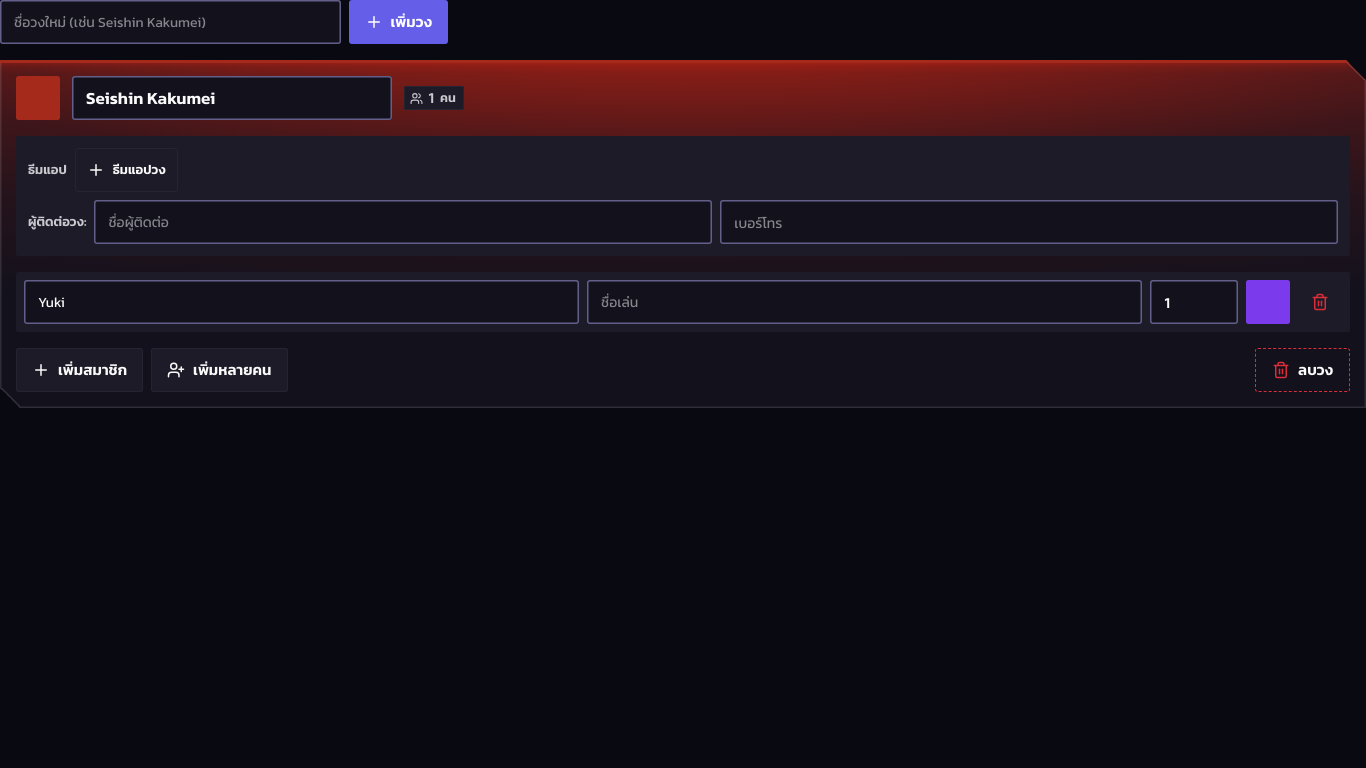
Artists: a member with history leaves the band instead of being deleted › a history read that failed also leaves (reversible), never deletes
Click the button named "ลบสมาชิก" at coordinates (1320, 302), box [1298, 280, 1342, 324]
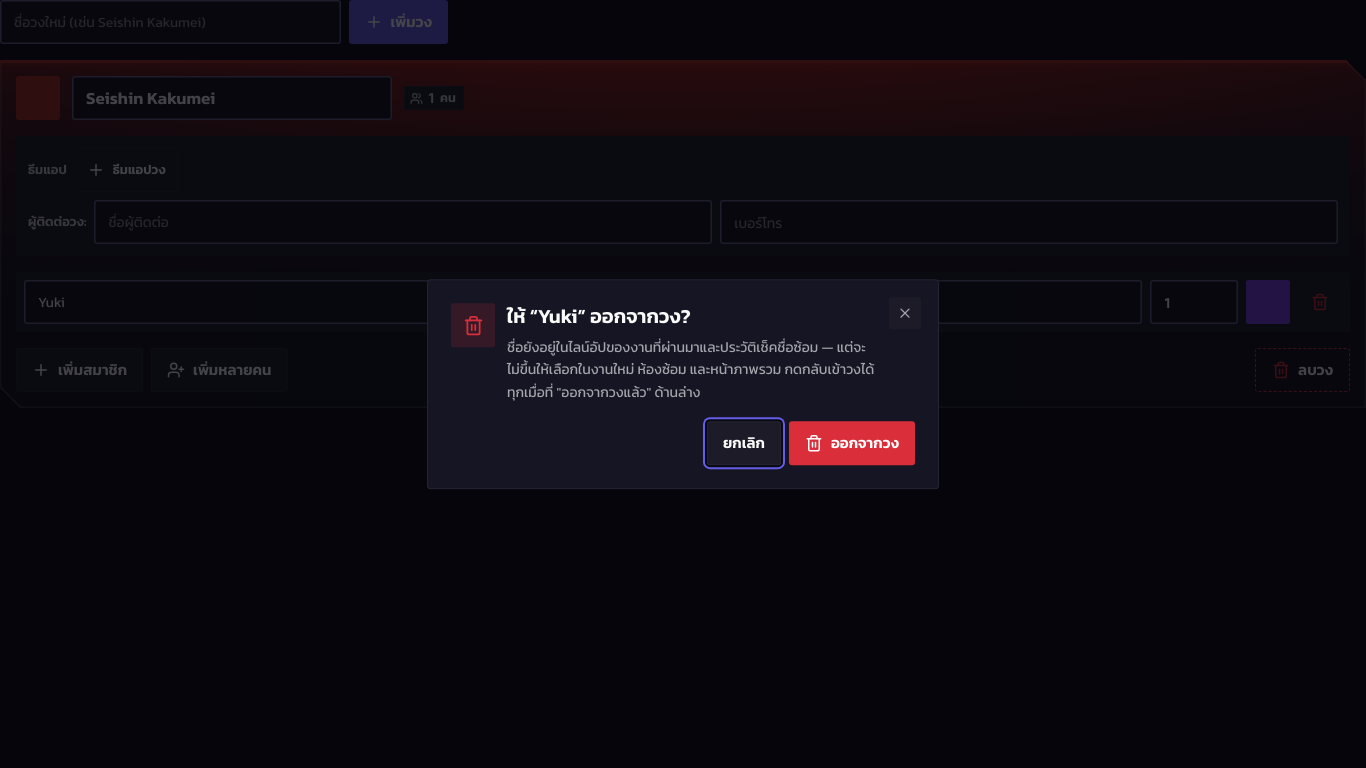
Expected: the button "ออกจากวง" is shown, [789, 421, 915, 465]
